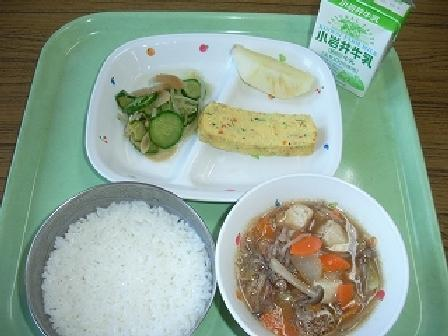Apple: (220, 34, 314, 105)
Milk: (301, 4, 413, 76)
Rice: (20, 178, 218, 333)
Salad: (107, 66, 203, 156)
egg product: (198, 89, 324, 169)
vegetable soup: (215, 181, 408, 335)
